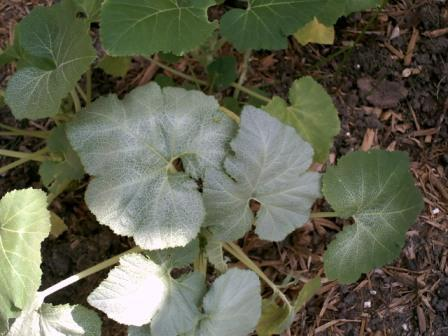Squash Powdery mildew leaf: (73, 87, 240, 246), (207, 96, 319, 244), (325, 133, 427, 284), (96, 255, 193, 336), (204, 266, 274, 336)
